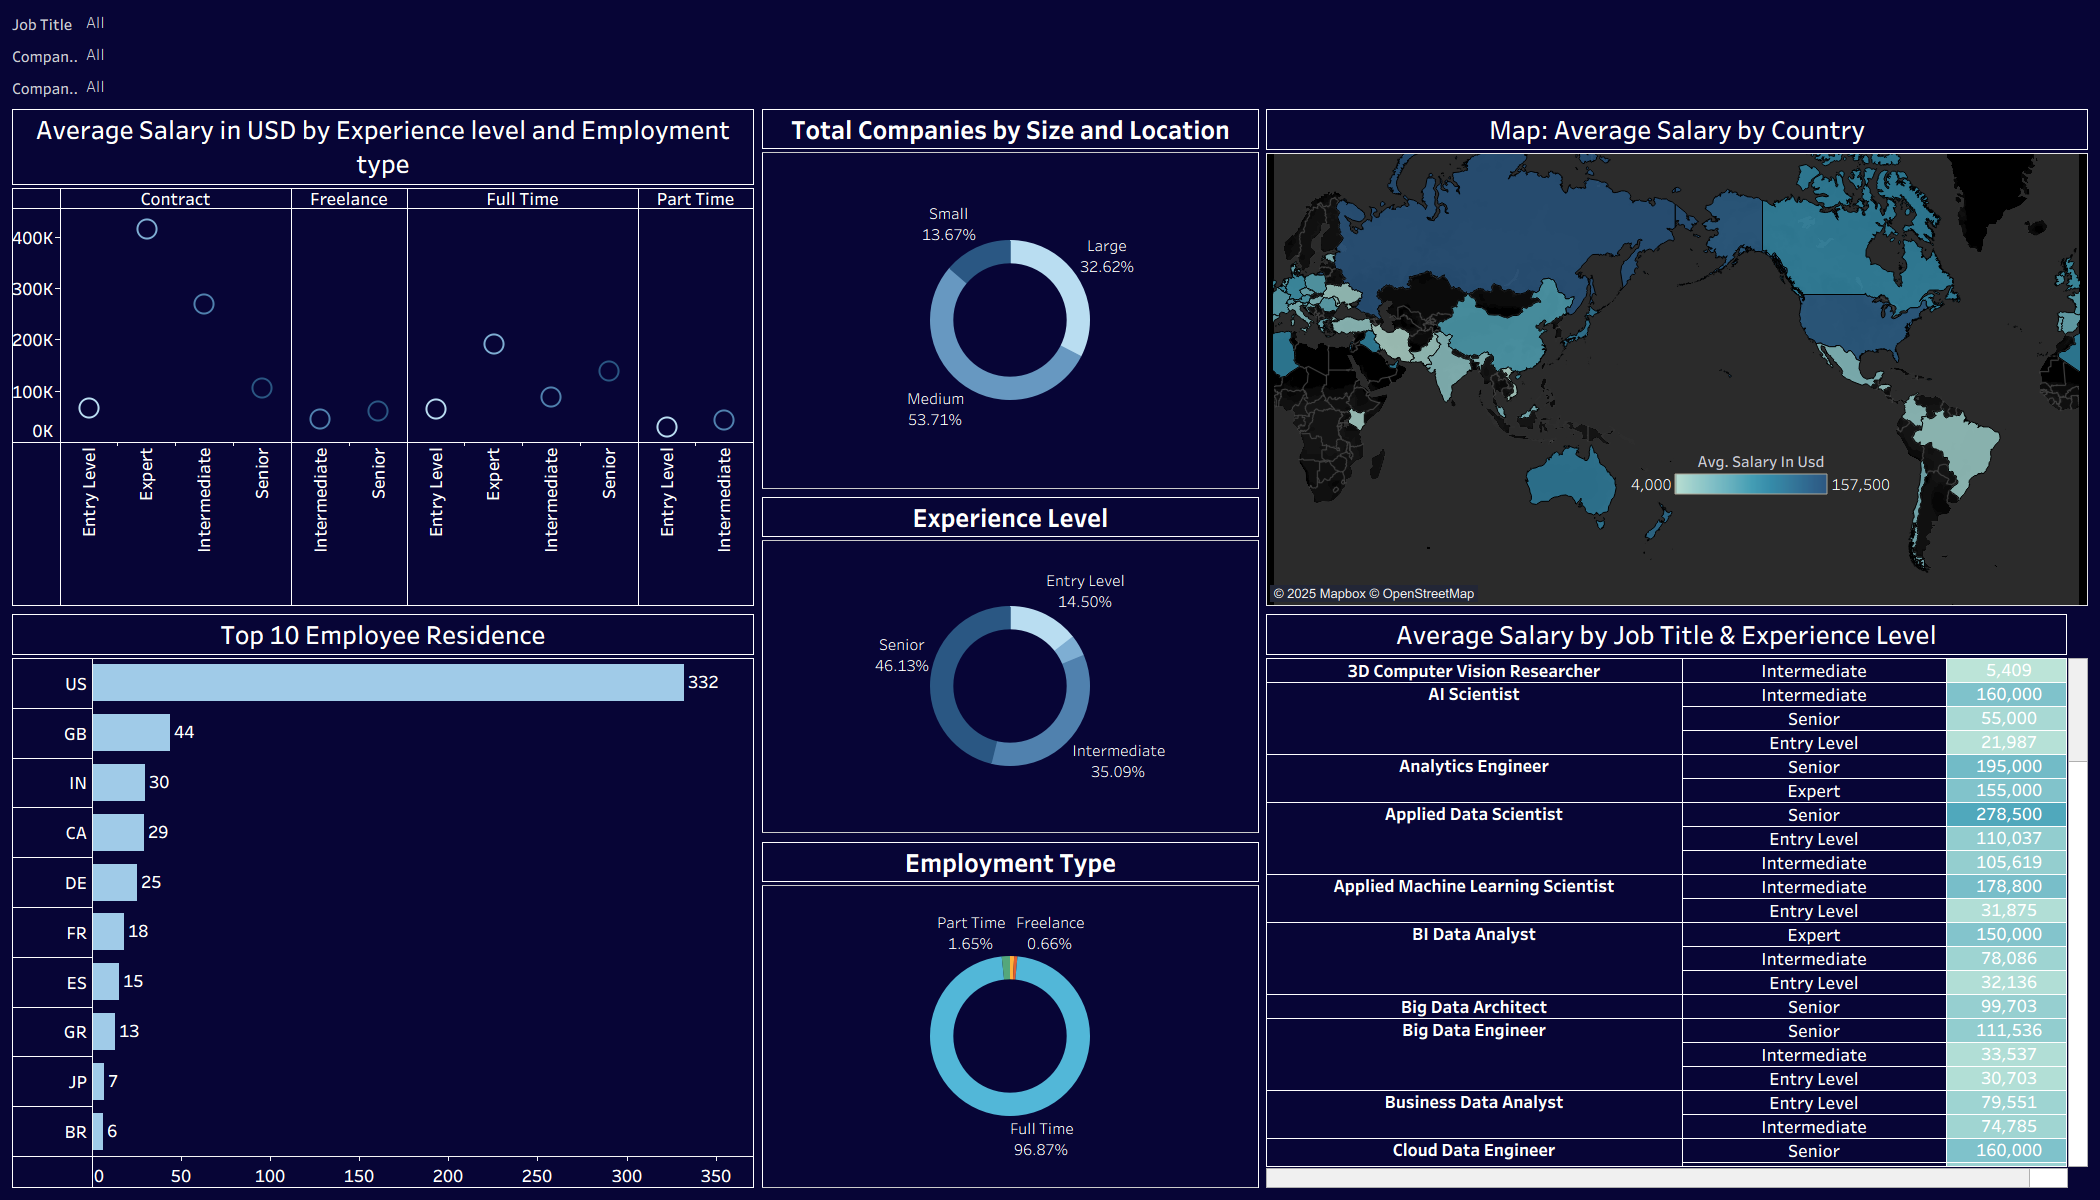

The dashboard page shown, as its layout file describes it:
{"tool":"tableau","page":{"name":"Dashboard 1","canvas":[2100,1200],"ordinal":0},"visuals":[{"type":"filter","title":"Map: Average Salary by Country","param":"[federated.1n99t241n4nt5j10lts5b1f23blo].[none:job_title:nk]","box":[8,8,2084,32]},{"type":"filter","title":"Total Companies by Size and Location","param":"[federated.1n99t241n4nt5j10lts5b1f23blo].[none:company_location:nk]","box":[8,40,2084,32]},{"type":"filter","title":"Experience Level","param":"[federated.1n99t241n4nt5j10lts5b1f23blo].[none:company_location:nk]","box":[8,72,2084,33]},{"type":"worksheet","title":"Average Salary in USD by Experience level and Employment type","mark":"Shape","rows":["salary_in_usd"],"cols":["employment_type","experience_level"],"box":[8,105,749.5,504.9]},{"type":"worksheet","title":"Total Companies by Size and Location","mark":"Pie","rows":["Calculation_996139990631251971","Calculation_996139990631251971"],"box":[757.5,105,504.8,388.3]},{"type":"worksheet","title":"Map: Average Salary by Country","mark":"Automatic","box":[1262.3,105,829.7,504.9]},{"type":"legend","title":"Map: Average Salary by Country","param":"[federated.1n99t241n4nt5j10lts5b1f23blo].[avg:salary_in_usd:qk]","box":[1627,447,268,88]},{"type":"worksheet","title":"Experience Level","mark":"Pie","rows":["Calculation_996139990631251971","Calculation_996139990631251971"],"box":[757.5,493.3,504.8,344.3]},{"type":"worksheet","title":"Top 10 Employee Residence","mark":"Automatic","rows":["employee_residence"],"cols":["employee_residence"],"box":[8,609.9,749.5,582]},{"type":"worksheet","title":"Average Salary by Job Title & Experience Level","mark":"Square","rows":["job_title","experience_level"],"box":[1262.3,609.9,829.7,582]},{"type":"worksheet","title":"Employment Type","mark":"Pie","rows":["Calculation_996139990631251971","Calculation_996139990631251971"],"box":[757.5,837.6,504.8,354.4]}]}

Visuals, with their boxes in screenshot pixels (x1, y1, x2, y2), scaled from the page's 2100x1200 canvas onto the 2100x1200 screenshot:
"Map: Average Salary by Country" filter: (left=8, top=8, right=2092, bottom=40)
"Total Companies by Size and Location" filter: (left=8, top=40, right=2092, bottom=72)
"Experience Level" filter: (left=8, top=72, right=2092, bottom=105)
"Average Salary in USD by Experience level and Employment type" worksheet (Shape marks): (left=8, top=105, right=758, bottom=610)
"Total Companies by Size and Location" worksheet (Pie marks): (left=758, top=105, right=1262, bottom=493)
"Map: Average Salary by Country" worksheet: (left=1262, top=105, right=2092, bottom=610)
"Map: Average Salary by Country" legend: (left=1627, top=447, right=1895, bottom=535)
"Experience Level" worksheet (Pie marks): (left=758, top=493, right=1262, bottom=838)
"Top 10 Employee Residence" worksheet: (left=8, top=610, right=758, bottom=1192)
"Average Salary by Job Title & Experience Level" worksheet (Square marks): (left=1262, top=610, right=2092, bottom=1192)
"Employment Type" worksheet (Pie marks): (left=758, top=838, right=1262, bottom=1192)
